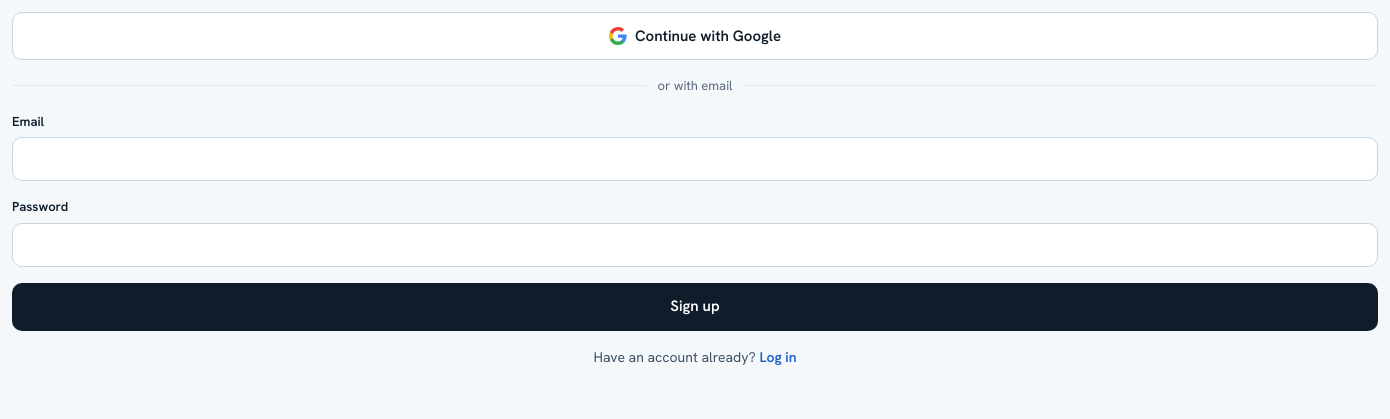
Scenario: SignupForm › renders a Supabase error inline, not as a toast
Type "a@b.com" into the field labelled "Email" at x=695, y=159, box [12,137,1378,181]
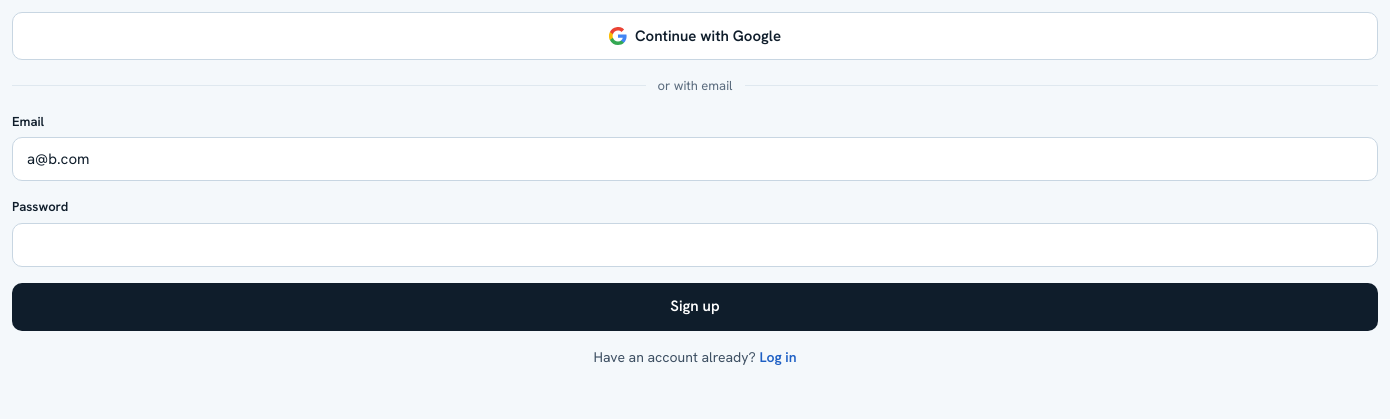
Type "123" into the password field labelled "Password" at x=695, y=244, box [12,222,1378,266]
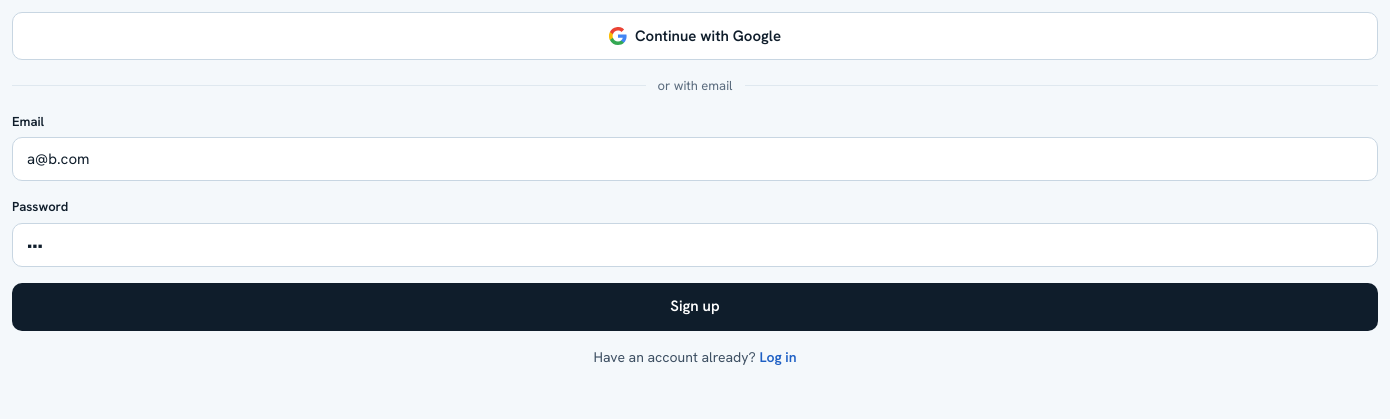
Click the button "Sign up" at x=695, y=306, box [12,282,1378,330]
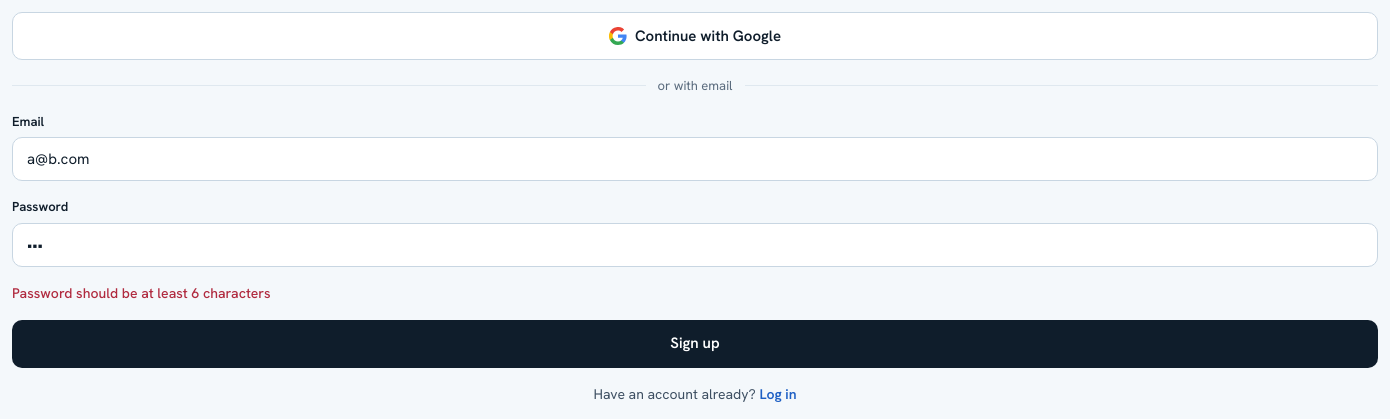
Result: the message reads "Password should be at least 6 characters" at [12,284,270,302]
